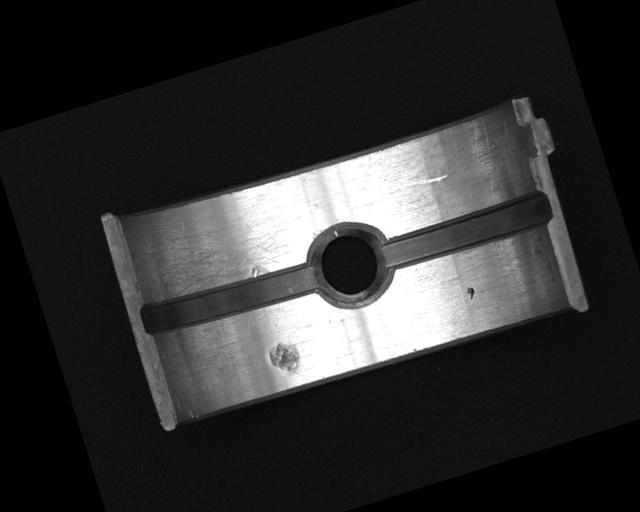bruise: (263, 336, 303, 381), (464, 284, 478, 303)
gap: (137, 249, 326, 345), (374, 188, 554, 275)
hole: (300, 212, 399, 318)
nick: (387, 165, 450, 197)
scratch: (137, 188, 315, 309)
